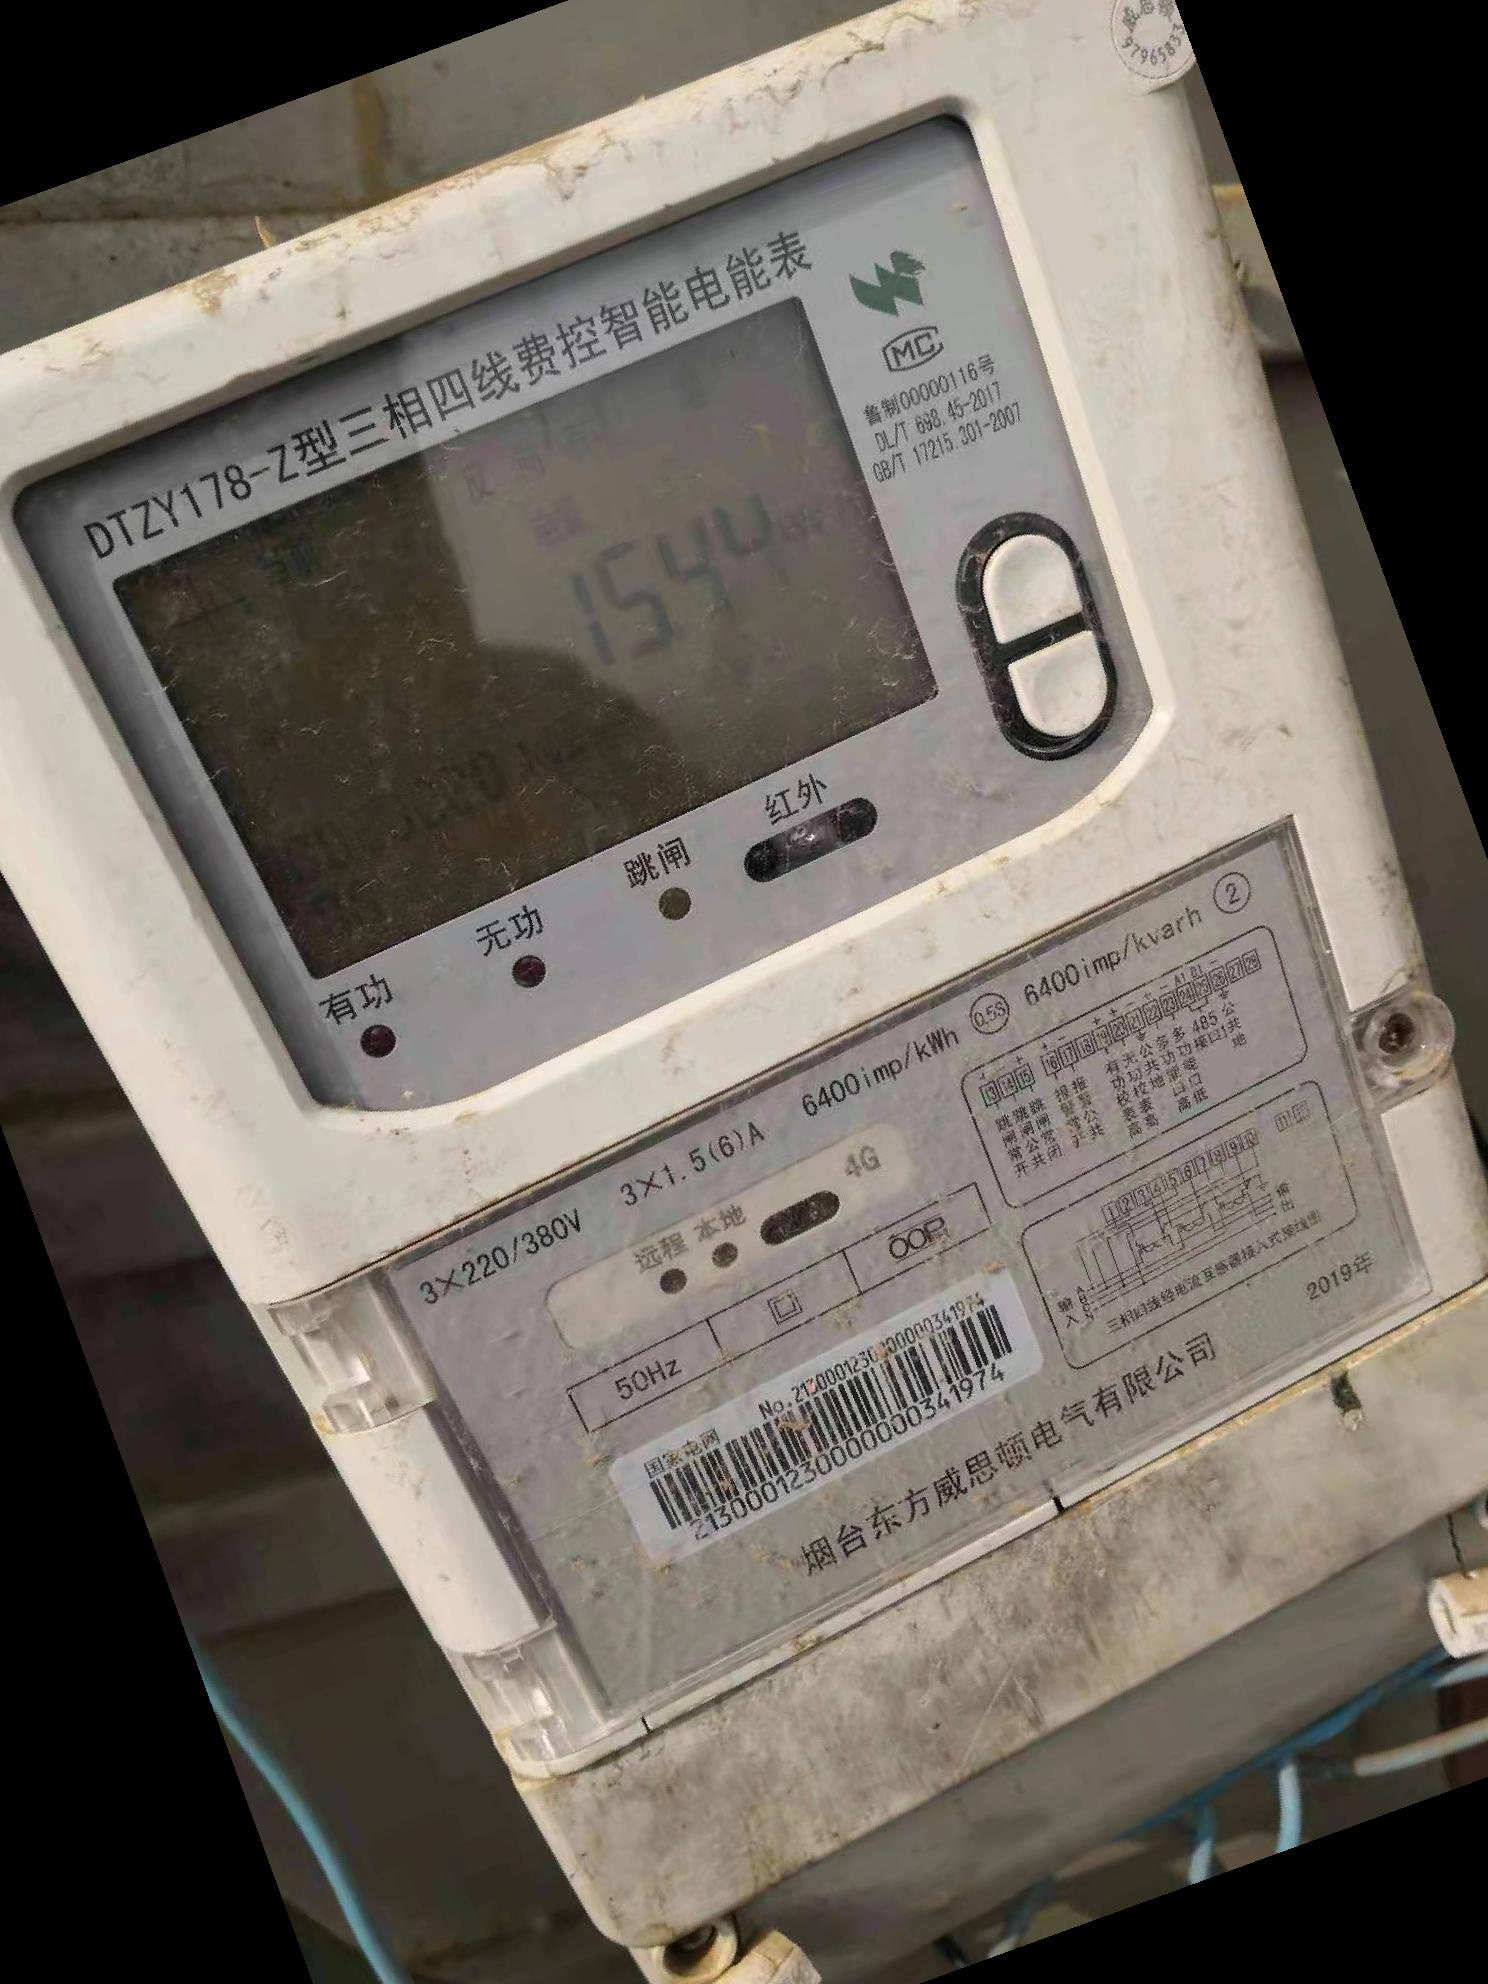digital: (2, 2, 1488, 1936)
